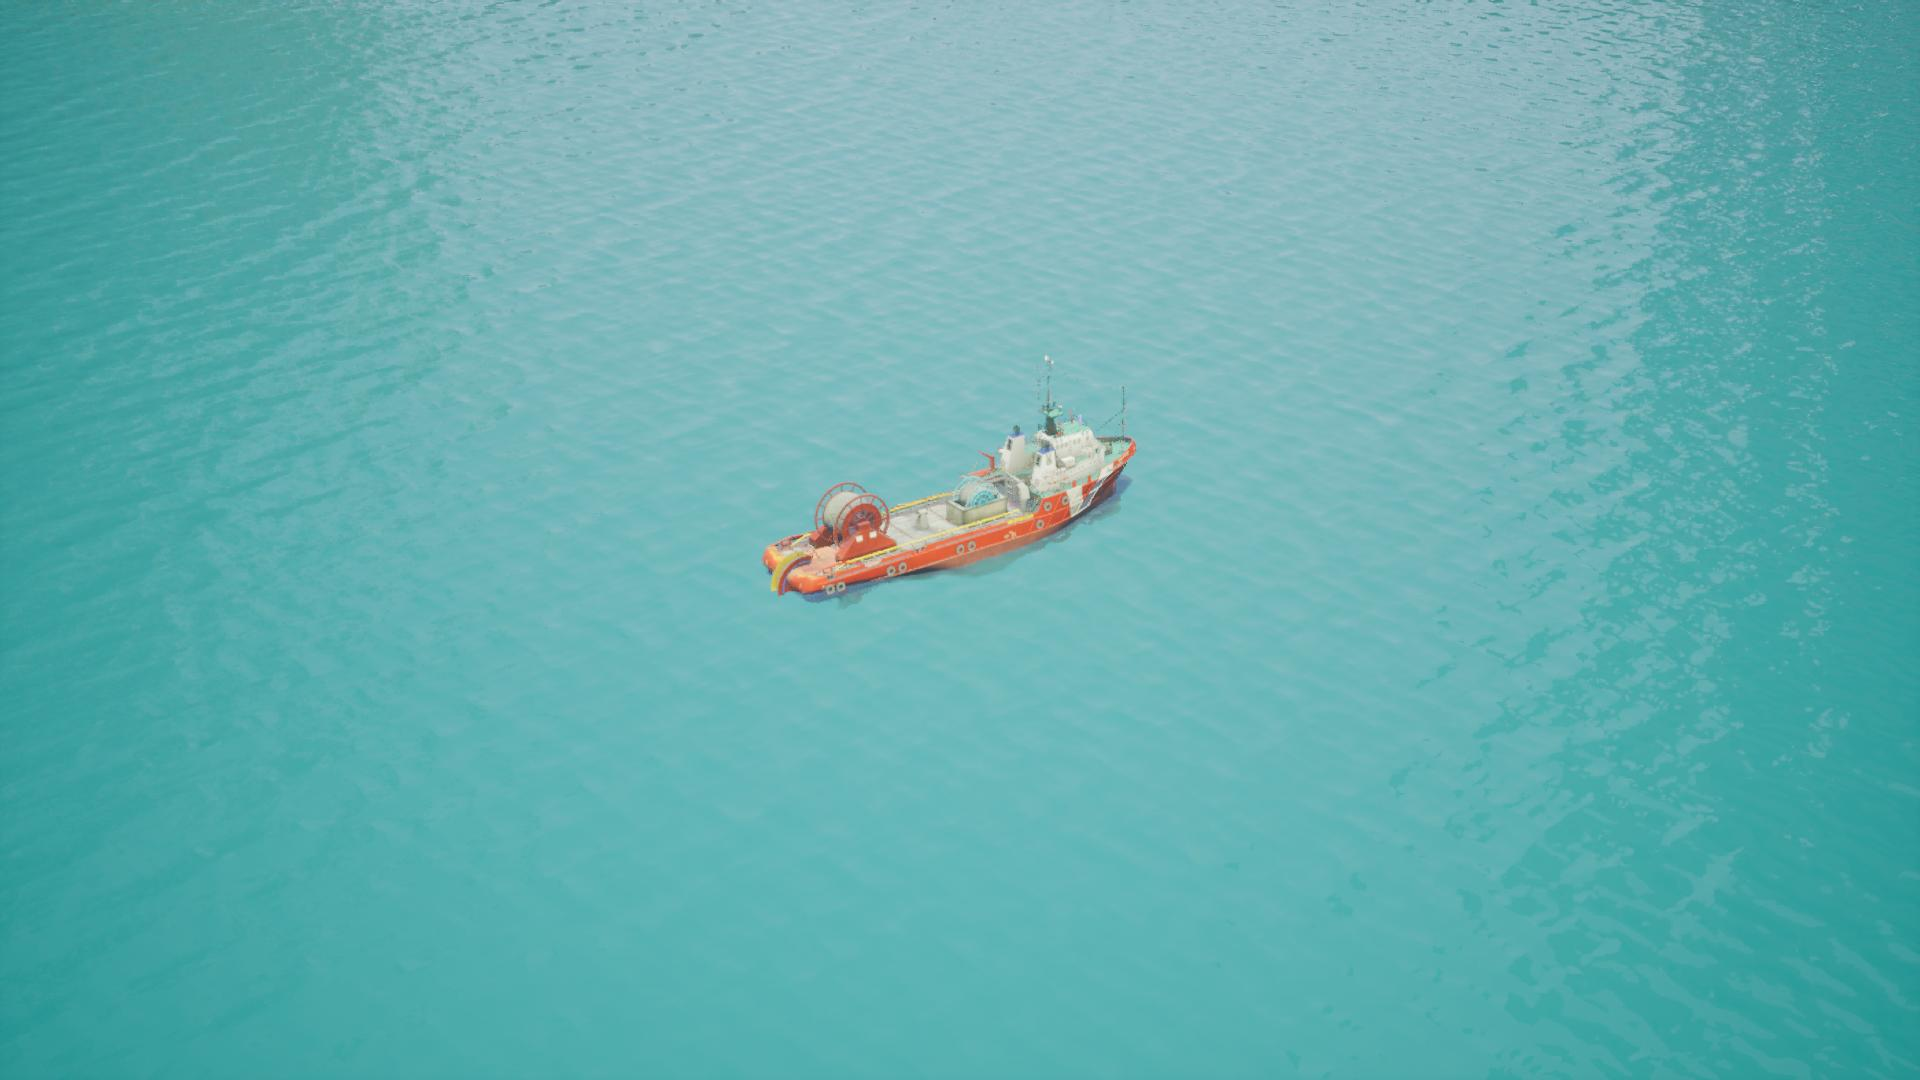Tug Boat: (769, 426, 1138, 600)
